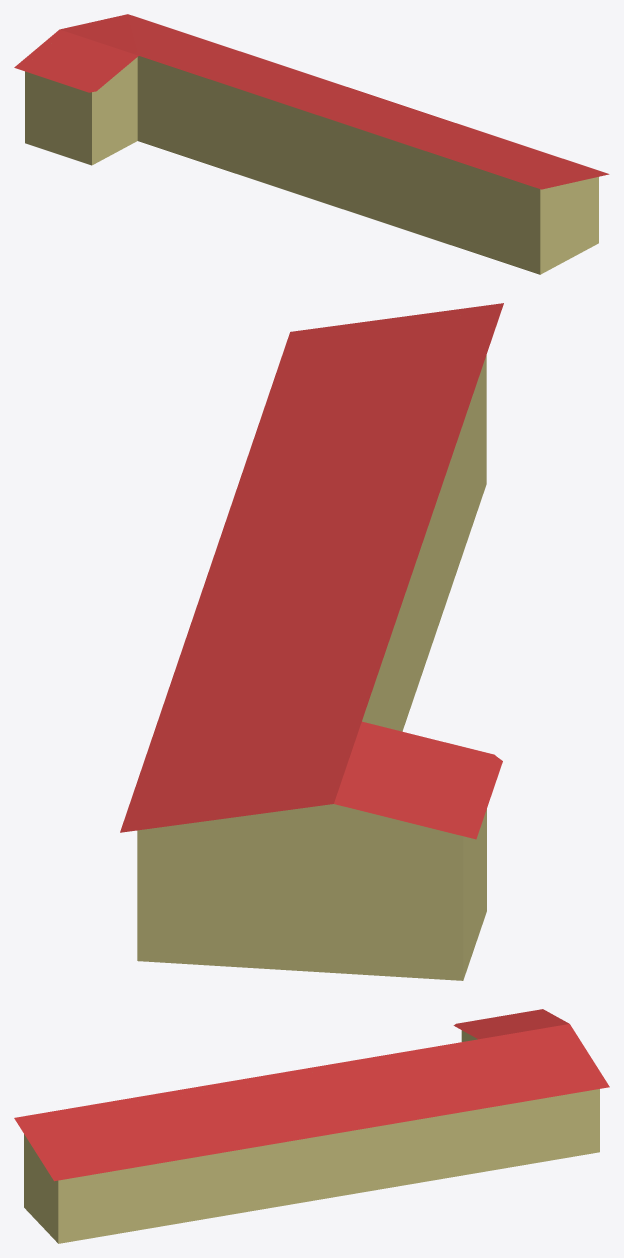
3 views of the same model, one above another, from view 1: azimuth 30°, elevation 25°; view 2: azimuth 150°, elevation 25°; view 3: azimuth 270°, elevation 25° (orthographic). The views are drawn at different scales.
Bounding box in the file's own units: 37.83 × 57.85 × 9.41.
